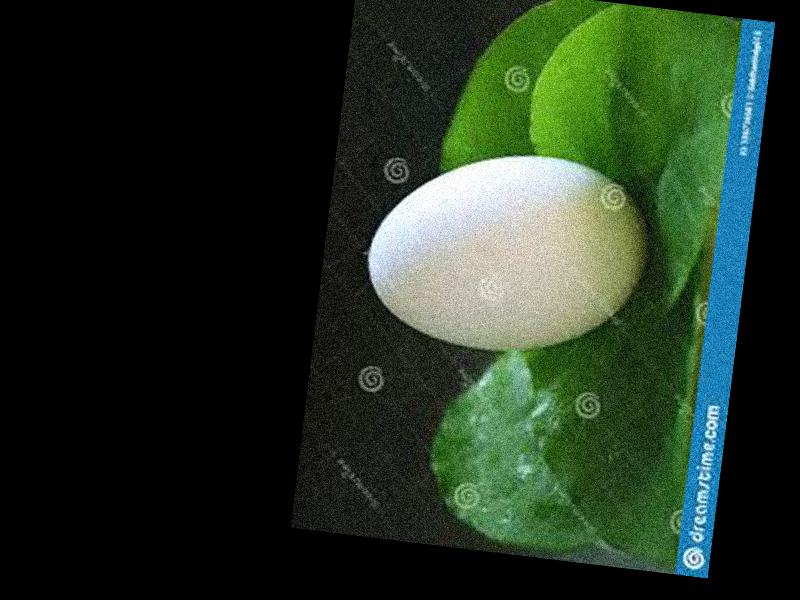Eggs: (358, 136, 655, 367)
